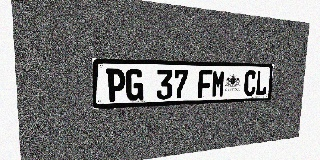3: (156, 69, 173, 100)
7: (173, 69, 188, 99)
C: (244, 70, 257, 96)
F: (197, 70, 212, 98)
G: (126, 69, 143, 101)
L: (255, 71, 268, 96)
M: (211, 70, 226, 98)
P: (106, 69, 125, 102)
